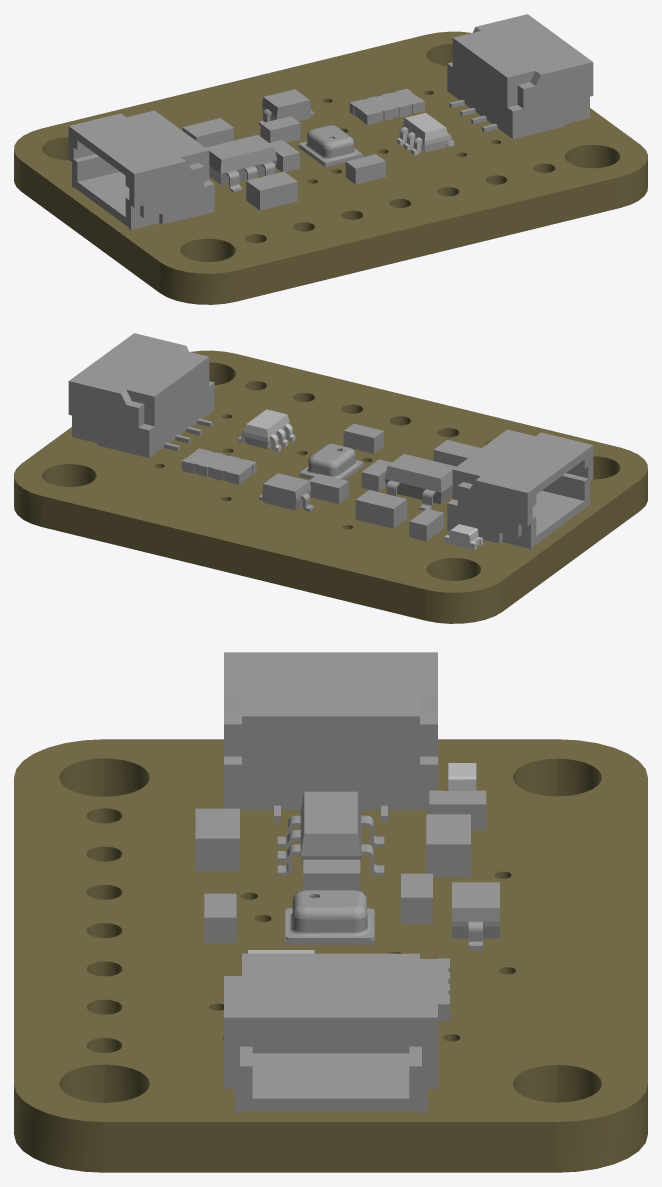
Rendered from ada-6420.glb.
3 views of the same model, one above another, from view 1: azimuth 30°, elevation 25°; view 2: azimuth 150°, elevation 25°; view 3: azimuth 270°, elevation 25° (orthographic). The views are drawn at different scales.
Visible parts, largest first — view 1: 0.16666666666666666_0.16666666666666666_0.08333333333333333_, 0.3333333333333333_0.3333333333333333_0.3333333333333333_0, 0.5_0.5_0.5_0.85; view 2: 0.16666666666666666_0.16666666666666666_0.08333333333333333_, 0.3333333333333333_0.3333333333333333_0.3333333333333333_0, 0.5_0.5_0.5_0.85, 0.5833333333333334_0.5833333333333334_0.5833333333333334_0.8; view 3: 0.16666666666666666_0.16666666666666666_0.08333333333333333_, 0.3333333333333333_0.3333333333333333_0.3333333333333333_0, 0.5833333333333334_0.5833333333333334_0.5833333333333334_0.8.
Part boxes in pixels (x1=…): 0.16666666666666666_0.16666666666666666_0.08333333333333333_: x1=14, y1=31, x2=647, y2=304; 0.3333333333333333_0.3333333333333333_0.3333333333333333_0: x1=68, y1=14, x2=593, y2=229; 0.5_0.5_0.5_0.85: x1=397, y1=112, x2=454, y2=155; 0.16666666666666666_0.16666666666666666_0.08333333333333333_: x1=14, y1=350, x2=647, y2=623; 0.3333333333333333_0.3333333333333333_0.3333333333333333_0: x1=68, y1=333, x2=593, y2=548; 0.5_0.5_0.5_0.85: x1=238, y1=409, x2=295, y2=452; 0.5833333333333334_0.5833333333333334_0.5833333333333334_0.8: x1=444, y1=524, x2=482, y2=549; 0.16666666666666666_0.16666666666666666_0.08333333333333333_: x1=14, y1=739, x2=647, y2=1172; 0.3333333333333333_0.3333333333333333_0.3333333333333333_0: x1=195, y1=652, x2=499, y2=1112; 0.5833333333333334_0.5833333333333334_0.5833333333333334_0.8: x1=448, y1=763, x2=476, y2=790.
Size of the model in its own units: 2.54 by 0.463 by 1.78.
